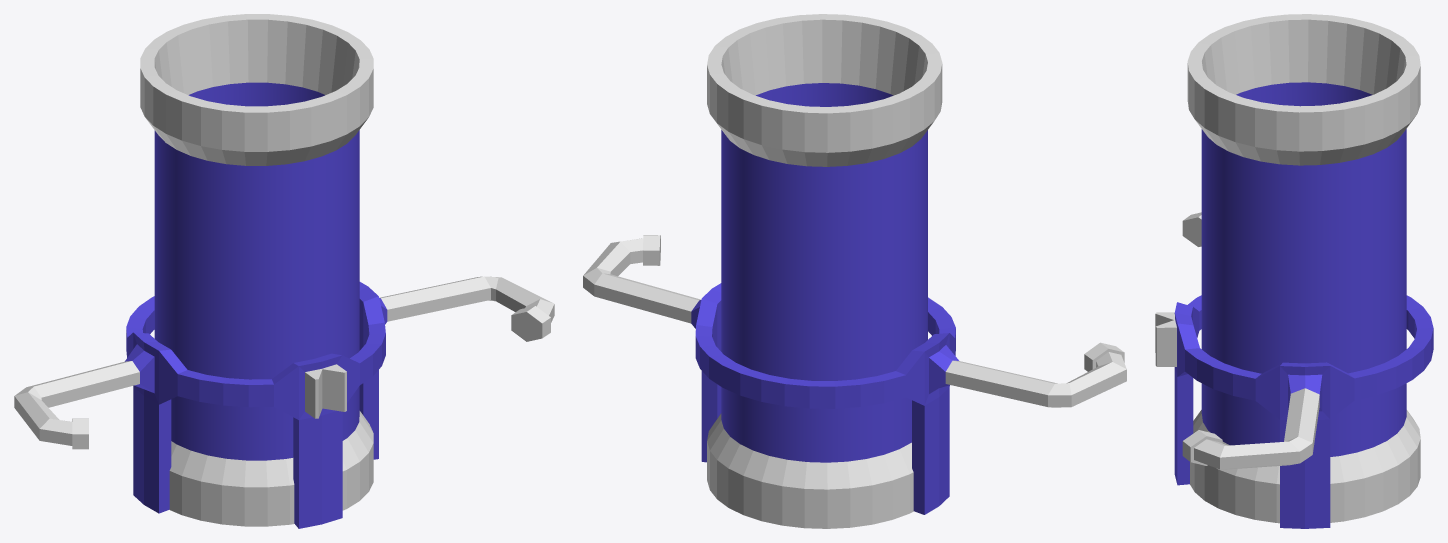
The model's file is Termo_Phantom.fbx.
3 views of the same model, side by side, from view 1: azimuth 30°, elevation 25°; view 2: azimuth 150°, elevation 25°; view 3: azimuth 270°, elevation 25° (orthographic).
Visible parts, largest first — view 1: Termo_phantom.002, Termo_phantom, Termo_phantom.001; view 2: Termo_phantom.002, Termo_phantom, Termo_phantom.001; view 3: Termo_phantom.002, Termo_phantom, Termo_phantom.001.
Part boxes in pixels (x1=…): Termo_phantom.002: x1=154, y1=82, x2=359, y2=460; Termo_phantom: x1=140, y1=14, x2=373, y2=526; Termo_phantom.001: x1=14, y1=276, x2=554, y2=528; Termo_phantom.002: x1=721, y1=83, x2=927, y2=462; Termo_phantom: x1=707, y1=14, x2=942, y2=528; Termo_phantom.001: x1=583, y1=235, x2=1126, y2=514; Termo_phantom.002: x1=1201, y1=82, x2=1406, y2=456; Termo_phantom: x1=1187, y1=14, x2=1420, y2=523; Termo_phantom.001: x1=1155, y1=212, x2=1433, y2=528.
Bounding box in the file's own units: 25.13 × 19.34 × 11.82.
